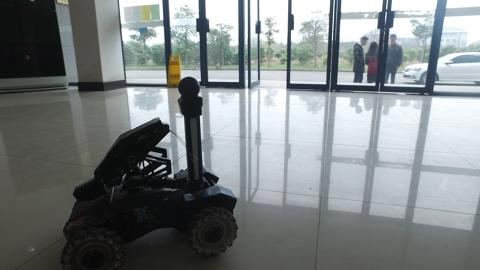chariot: (60, 74, 245, 270)
